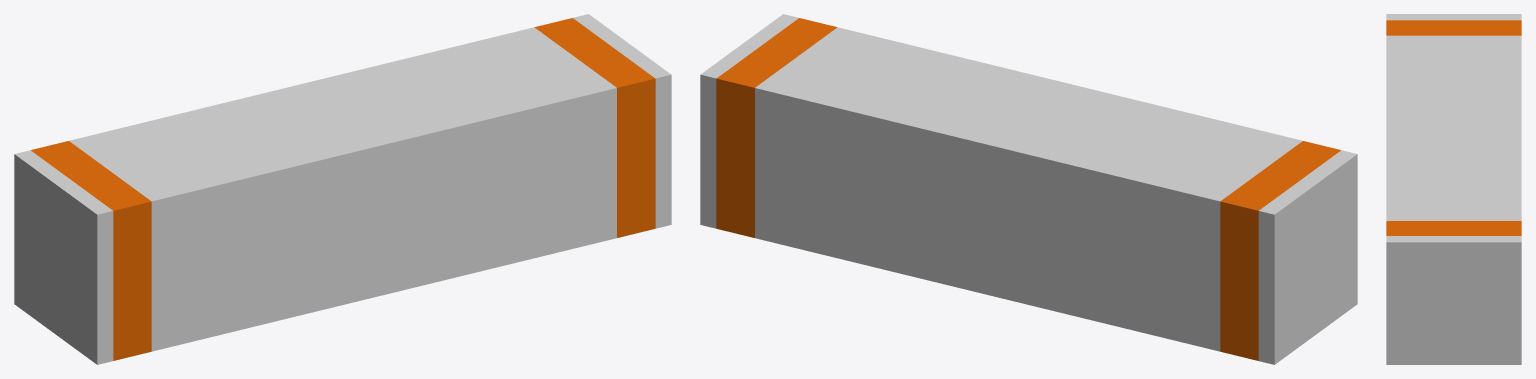
File: road.fbx
The picture shows the model from 3 angles, left to right: view 1: azimuth 30°, elevation 25°; view 2: azimuth 150°, elevation 25°; view 3: azimuth 270°, elevation 25°; orthographic projection. The views are drawn at different scales.
Parts seen in each view (by area): view 1: Cube; view 2: Cube; view 3: Cube.
Part boxes in pixels (x1,y1,x2,y2): Cube: [14, 14, 671, 364]; Cube: [700, 14, 1357, 364]; Cube: [1386, 14, 1521, 364].
Bounding box in the file's own units: 800 × 200 × 200.
